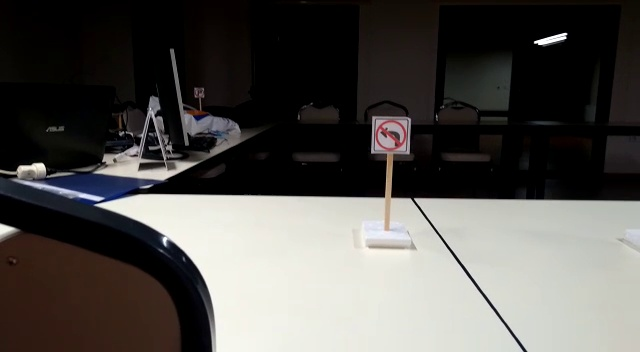sola_donulmez: (370, 117, 408, 154)
